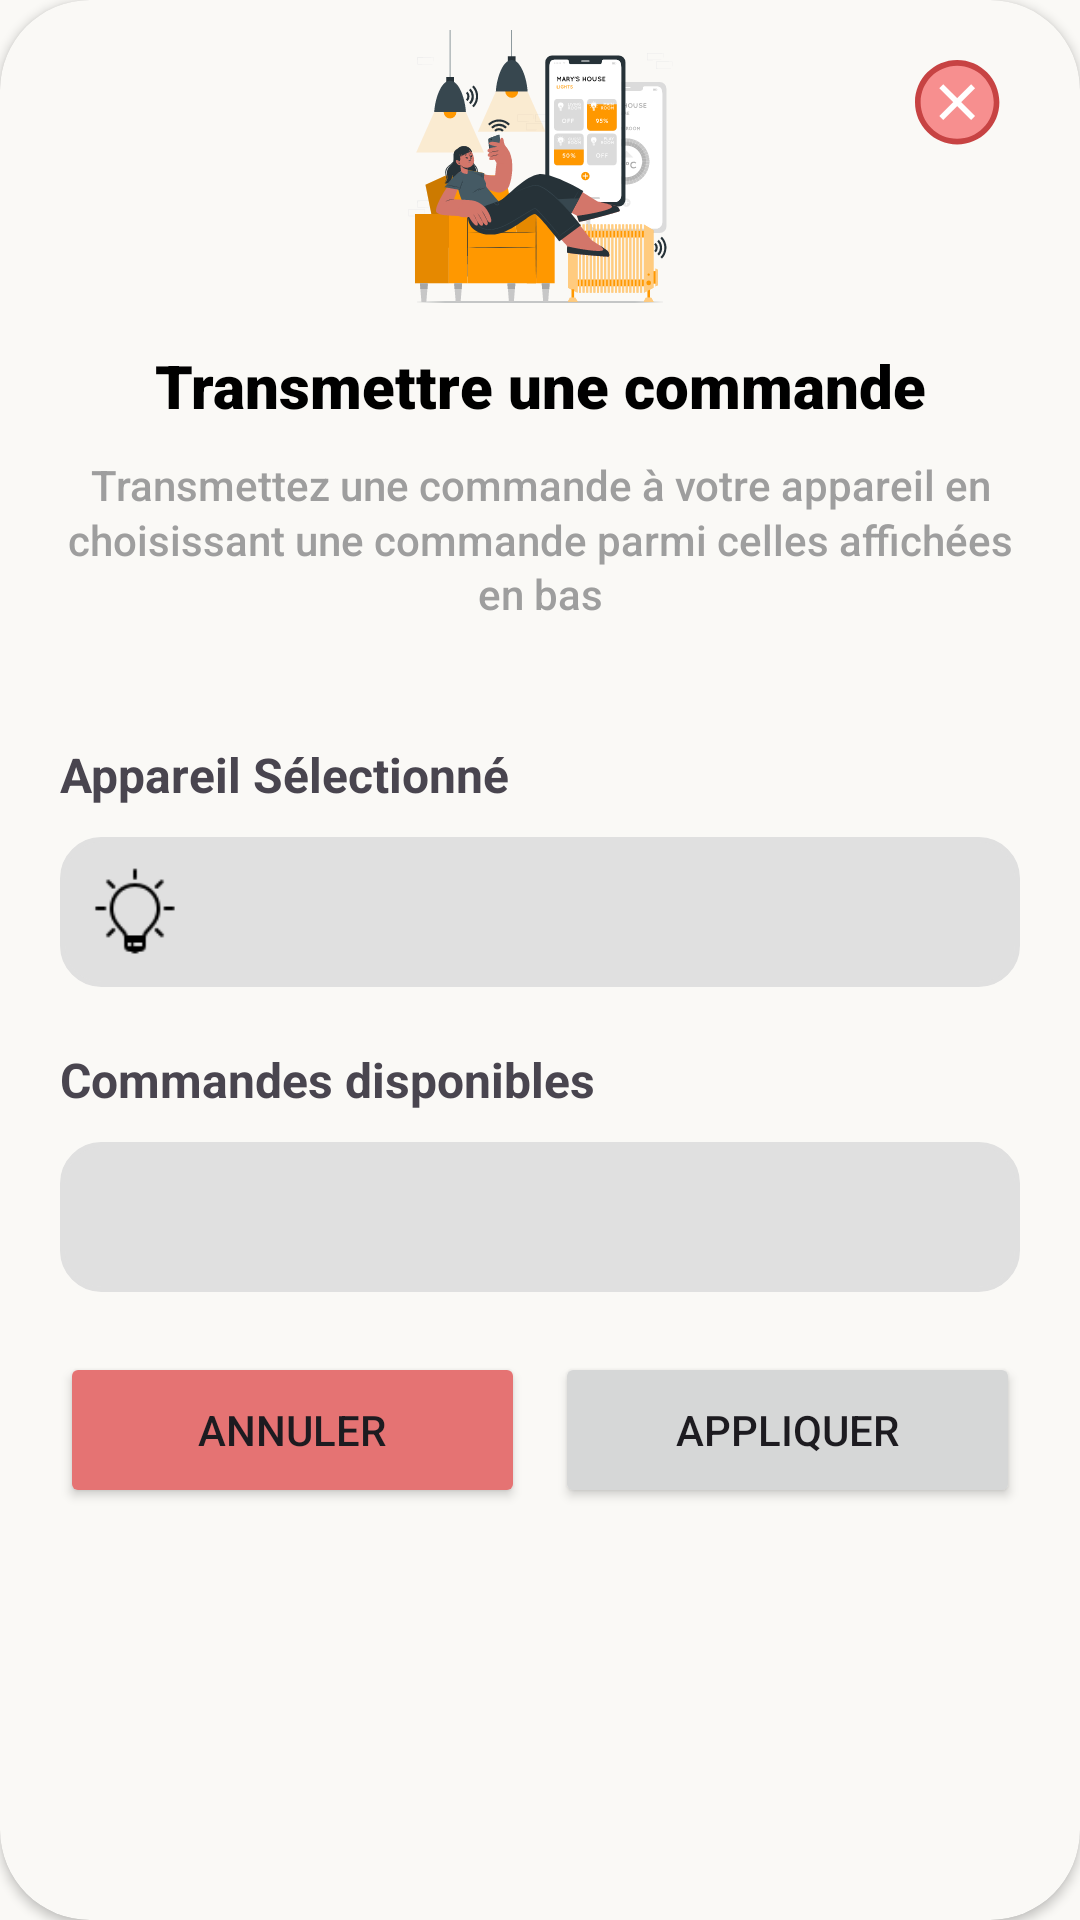

Locate icon controls on the screen. Image size 1080x1920, boxes as [left=x1, top=y1, right=x2, bottom=y2].
cancel: [left=915, top=60, right=1000, bottom=145]
